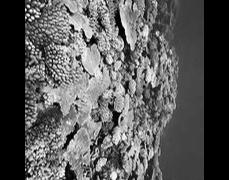bleached_corals: (25, 0, 178, 180)
